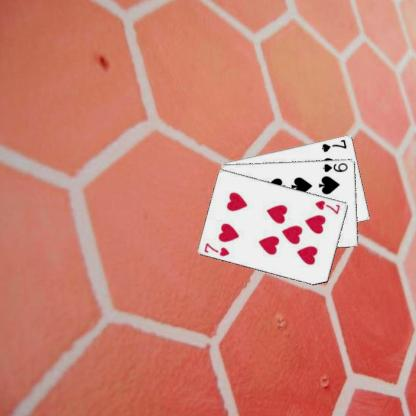7H: (202, 240, 231, 258), (312, 198, 342, 215)
7S: (319, 137, 348, 153)
9S: (320, 160, 350, 173)
